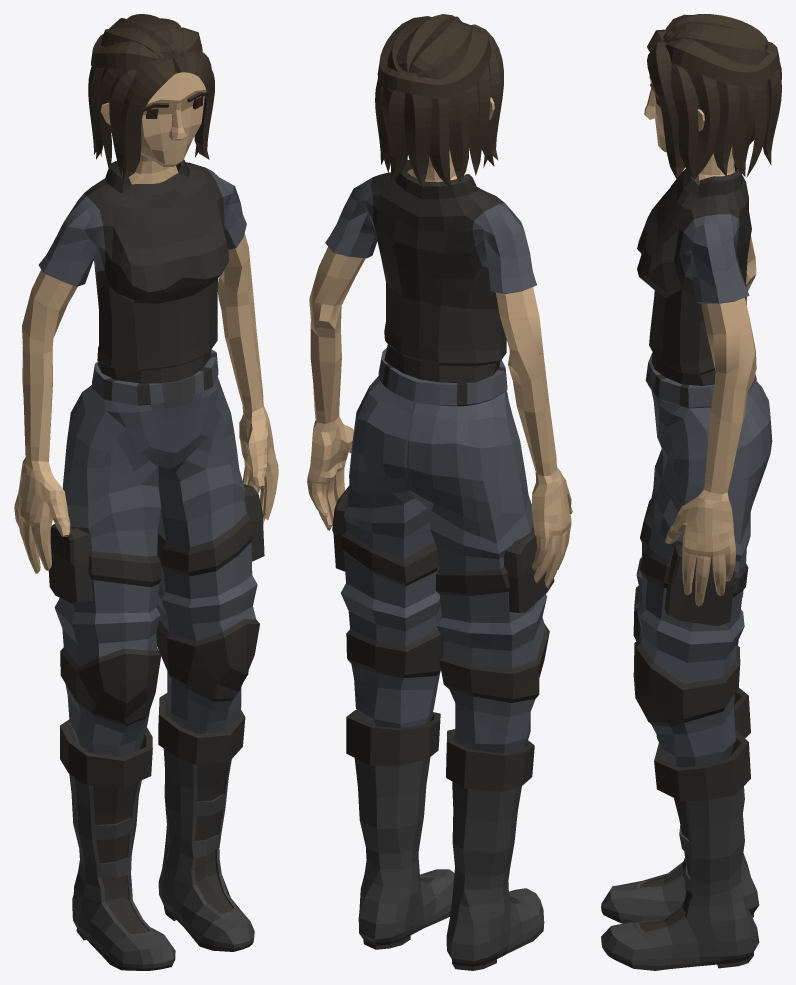
File: soldier-woman.glb
The picture shows the model from 3 angles, left to right: view 1: azimuth 30°, elevation 25°; view 2: azimuth 150°, elevation 25°; view 3: azimuth 270°, elevation 25°; orthographic projection.
Visible parts, largest first — view 1: Soldier_Legs, Soldier_Body, Soldier_Feet, Soldier_Head; view 2: Soldier_Legs, Soldier_Body, Soldier_Feet, Soldier_Head; view 3: Soldier_Legs, Soldier_Body, Soldier_Feet, Soldier_Head.
Part boxes in pixels (bbox=[...]): Soldier_Legs: bbox=[48, 349, 264, 756]; Soldier_Body: bbox=[14, 159, 278, 573]; Soldier_Feet: bbox=[60, 693, 254, 970]; Soldier_Head: bbox=[88, 14, 214, 180]; Soldier_Legs: bbox=[332, 348, 554, 753]; Soldier_Body: bbox=[307, 160, 572, 588]; Soldier_Feet: bbox=[346, 710, 544, 970]; Soldier_Head: bbox=[375, 14, 503, 187]; Soldier_Legs: bbox=[633, 353, 772, 767]; Soldier_Body: bbox=[637, 163, 756, 606]; Soldier_Feet: bbox=[601, 688, 759, 970]; Soldier_Head: bbox=[644, 14, 781, 179].
Bounding box in the file's own units: 0.5208 × 1.82 × 0.3254.
